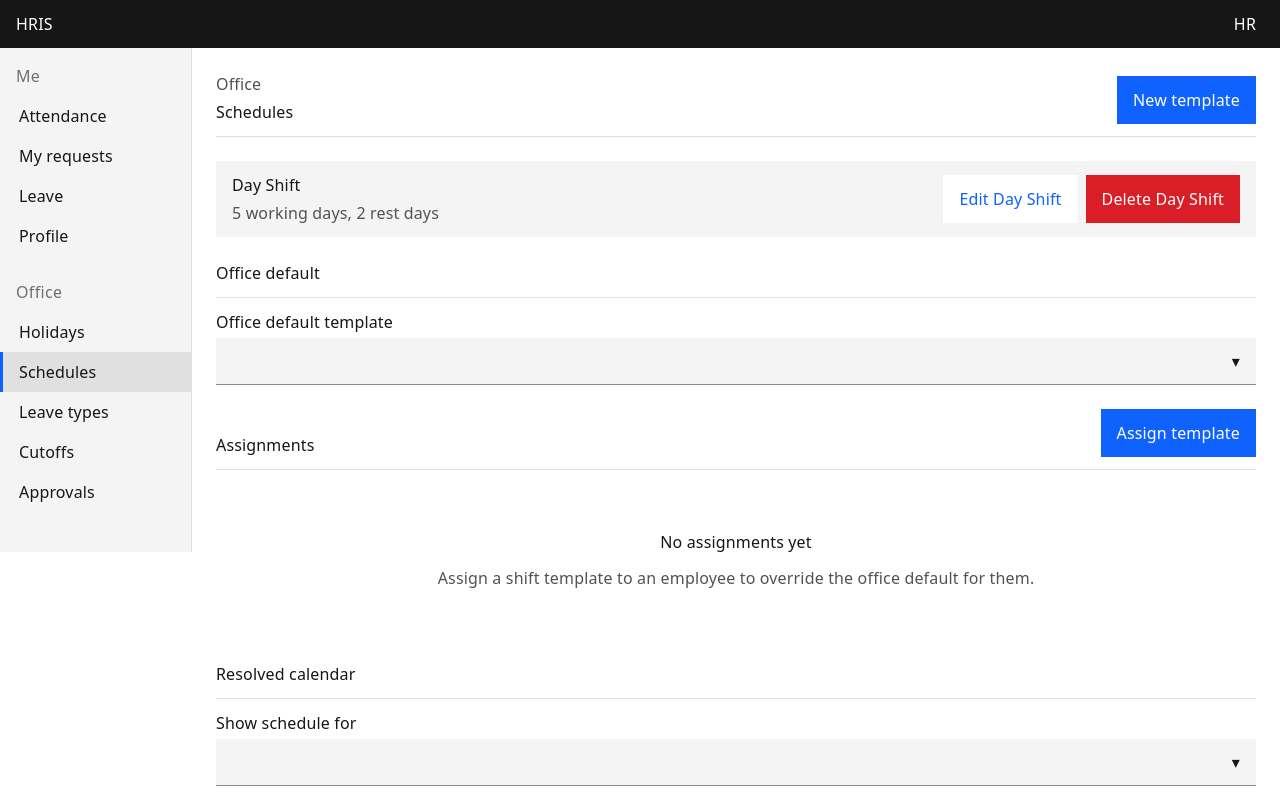
it: /office/schedules — resolved calendar › surfaces a resolver 422 office_has_no_default_template error via InlineNotification instead of crashing
expect the text "No assignments yet" is shown: met, box [660,530,812,554]
Click the dropdown named "Show schedule for": (1236, 762) [216,739,1256,786]
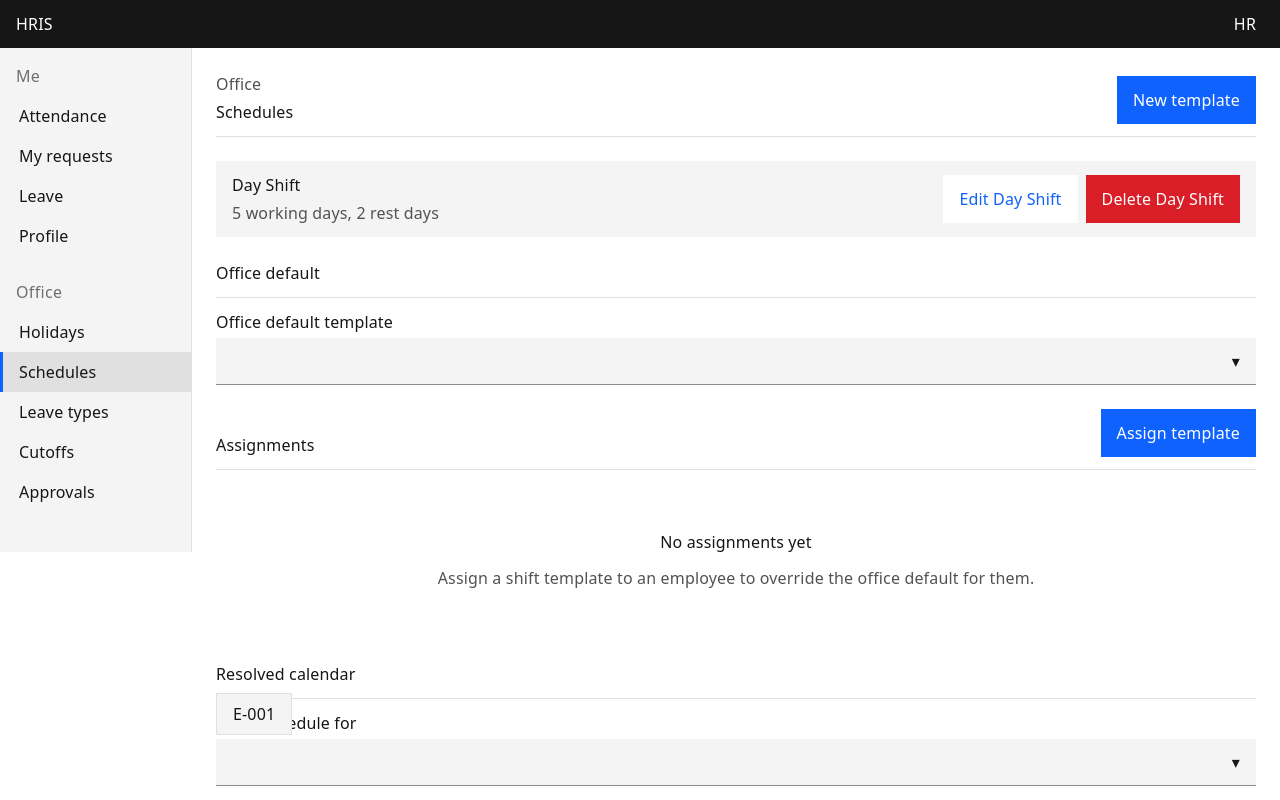
Click the option "E-001": (254, 714) [217,694,291,734]
(page scrolled)
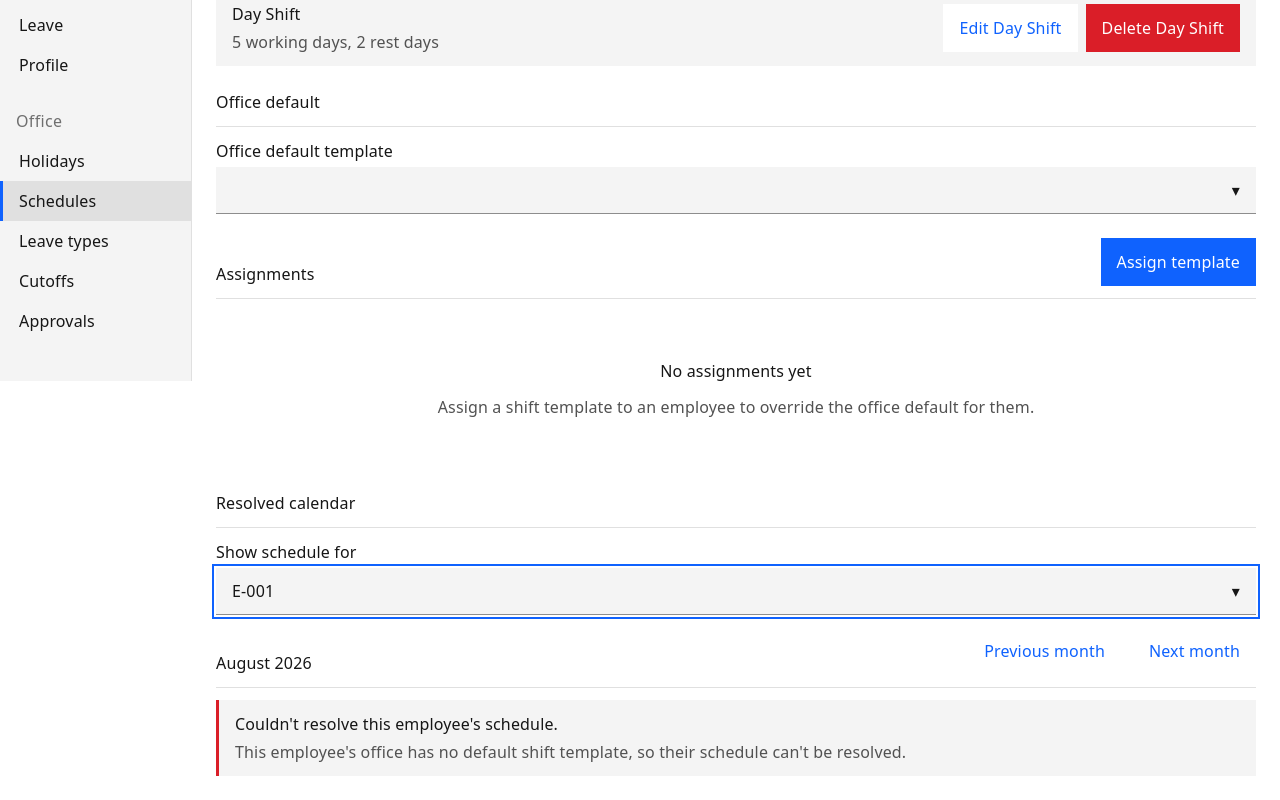
expect the text "This employee's office has no default shift template, so their schedule can't be resolved." is shown: met, box [235,741,906,763]
